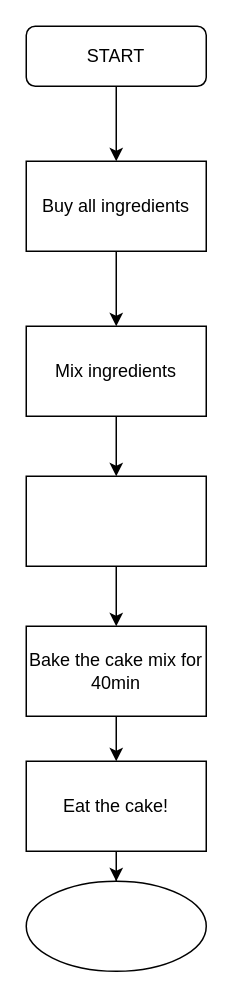
Some shapes in this 233 by 998 pixel diagram are drawn without their labels. The shapes that lost their labels are listed below. From the top down, each one's box as (x1, y1, x2, y2) in pixels, then its label:
(25, 475, 206, 566): Preheat oven (175*C)
(25, 880, 206, 971): End
